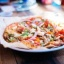pizza: (7, 18, 61, 47)
